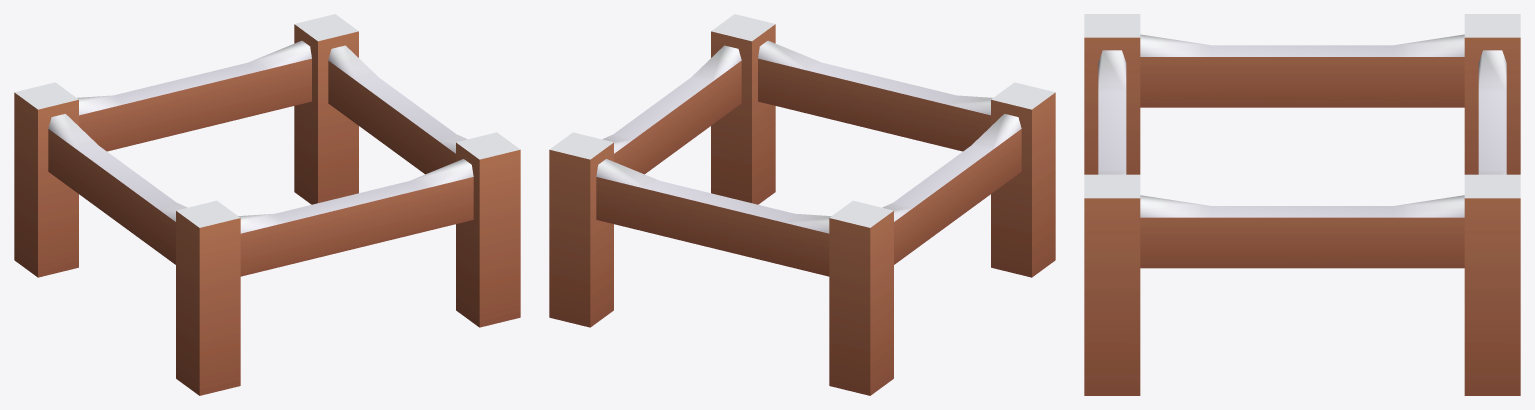
Rendered from kenney-tower-defense-snow-wood-structure.glb.
3 views of the same model, side by side, from view 1: azimuth 30°, elevation 25°; view 2: azimuth 150°, elevation 25°; view 3: azimuth 270°, elevation 25° (orthographic). The views are drawn at different scales.
Parts seen in each view (by area): view 1: snow-wood-structure; view 2: snow-wood-structure; view 3: snow-wood-structure.
Boxes of the visible parts, x1,y1,x2,y2 form: snow-wood-structure: [14, 14, 520, 395]; snow-wood-structure: [549, 14, 1055, 395]; snow-wood-structure: [1084, 14, 1520, 395].
Bounding box in the file's own units: 1 × 0.5001 × 1.
Materials: 1 (1 with a texture image).
